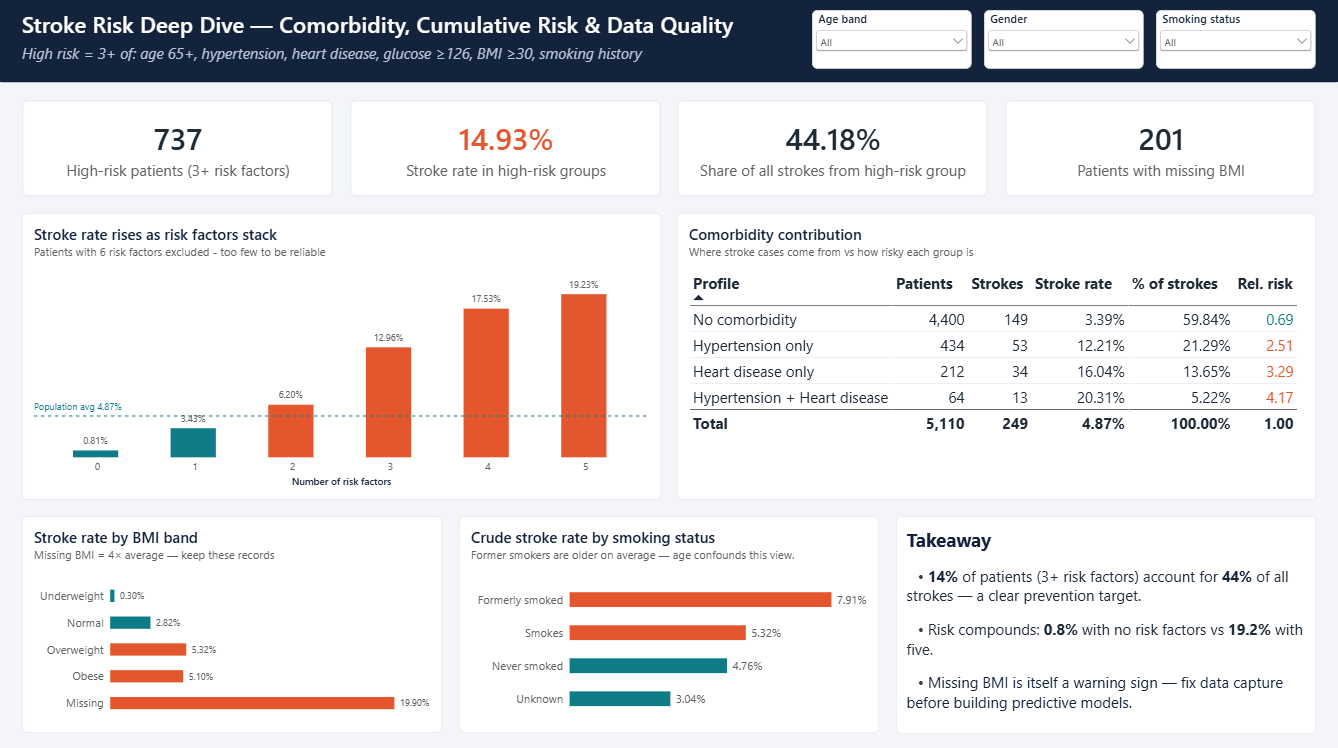

The page's visual inventory and layout, read from the dashboard file:
{"tool":"powerbi","page":{"name":"Deep Dive","canvas":[1920,1080],"ordinal":1},"visuals":[{"type":"shape","box":[0,0,1920,126],"z":0},{"type":"textbox","box":[36,18,1080,64],"z":1000},{"type":"textbox","box":[36,69,1080,39],"z":2000},{"type":"slicer","fields":{"Values":["DimAgeBand.AgeBand"]},"box":[1164,21,228,84],"z":3000},{"type":"slicer","fields":{"Values":["DimGender.Gender"]},"box":[1410,21,228,84],"z":4000},{"type":"slicer","fields":{"Values":["DimSmokingStatus.SmokingStatus"]},"box":[1656,21,228,84],"z":5000},{"type":"cardVisual","fields":{"Data":["_Measures.High Risk Patient Count"]},"box":[36,150,444,138],"z":6000},{"type":"cardVisual","fields":{"Data":["_Measures.High Risk Stroke Rate"]},"box":[504,150,444,138],"z":7000},{"type":"cardVisual","fields":{"Data":["_Measures.% of Strokes in High Risk"]},"box":[972,150,444,138],"z":8000},{"type":"cardVisual","fields":{"Data":["_Measures.Missing BMI Patient Count"]},"box":[1440,150,444,138],"z":9000},{"type":"clusteredColumnChart","title":"Stroke rate rises as risk factors stack","fields":{"Category":["FactStrokeAssessment.RiskFactorCount"],"Y":["_Measures.Stroke Rate"]},"box":[35.7,311.4,912.9,410],"z":10000},{"type":"tableEx","title":"Comorbidity contribution","fields":{"Values":["DimClinicalProfile.ClinicalProfile","_Measures.Patient Count","_Measures.Stroke Count","_Measures.Stroke Rate","_Measures.% of All Strokes","_Measures.Relative Risk"]},"box":[972,312,912.9,410],"z":11000},{"type":"clusteredBarChart","title":"Stroke rate by BMI band","fields":{"Category":["DimBMIBand.BMIBand"],"Y":["_Measures.Stroke Rate"]},"box":[35.7,744.3,600,310],"z":12000},{"type":"clusteredBarChart","title":"Crude stroke rate by smoking status","fields":{"Category":["DimSmokingStatus.SmokingStatus"],"Y":["_Measures.Stroke Rate"]},"box":[660,744.3,600,310],"z":13000},{"type":"textbox","box":[1284.3,744.3,600,311.4],"z":13001}]}

Visuals, with their boxes in screenshot pixels (x1, y1, x2, y2), scaled from the page's 1920x1080 canvas onto the 1338x748 screenshot:
shape: l=0, t=0, r=1337, b=87
textbox: l=25, t=12, r=778, b=57
textbox: l=25, t=48, r=778, b=75
slicer - DimAgeBand.AgeBand: l=811, t=15, r=970, b=73
slicer - DimGender.Gender: l=983, t=15, r=1141, b=73
slicer - DimSmokingStatus.SmokingStatus: l=1154, t=15, r=1313, b=73
cardVisual - _Measures.High Risk Patient Count: l=25, t=104, r=334, b=199
cardVisual - _Measures.High Risk Stroke Rate: l=351, t=104, r=661, b=199
cardVisual - _Measures.% of Strokes in High Risk: l=677, t=104, r=987, b=199
cardVisual - _Measures.Missing BMI Patient Count: l=1004, t=104, r=1313, b=199
"Stroke rate rises as risk factors stack" clusteredColumnChart: l=25, t=216, r=661, b=500
"Comorbidity contribution" tableEx: l=677, t=216, r=1314, b=500
"Stroke rate by BMI band" clusteredBarChart: l=25, t=515, r=443, b=730
"Crude stroke rate by smoking status" clusteredBarChart: l=460, t=515, r=878, b=730
textbox: l=895, t=515, r=1313, b=731
